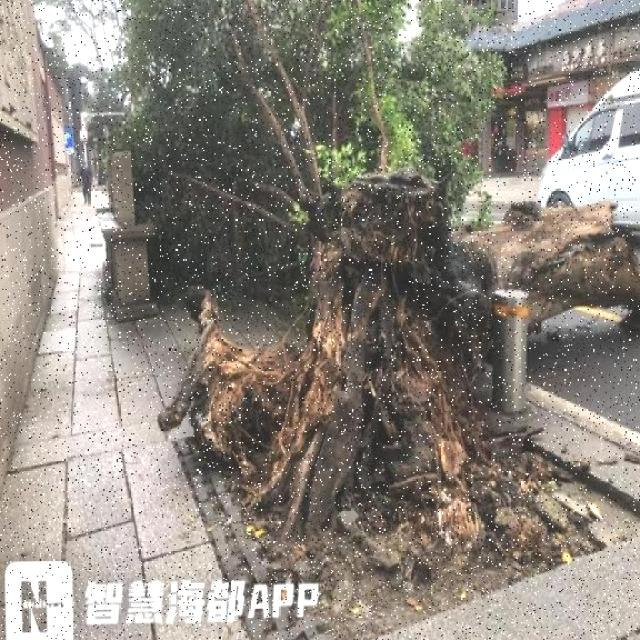fallen_object: (181, 198, 640, 534)
